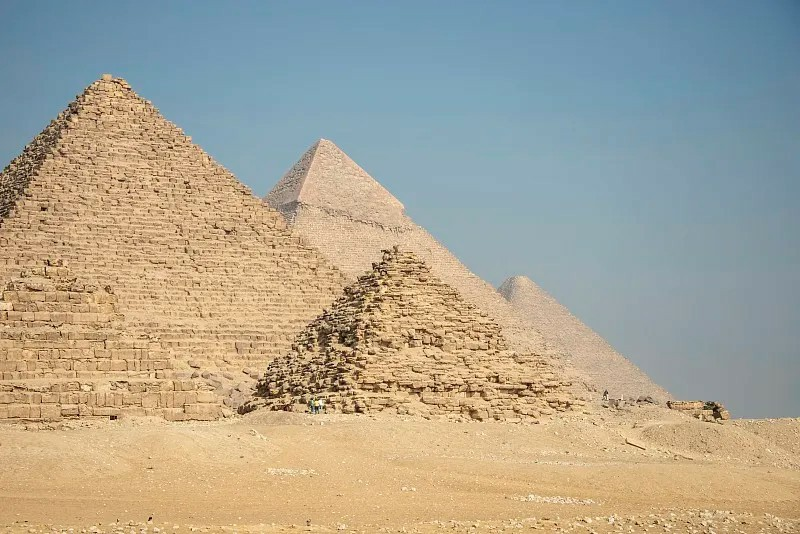Pyramid: (1, 75, 355, 418), (261, 137, 605, 406), (240, 247, 590, 416), (3, 254, 228, 422), (500, 276, 675, 404)
